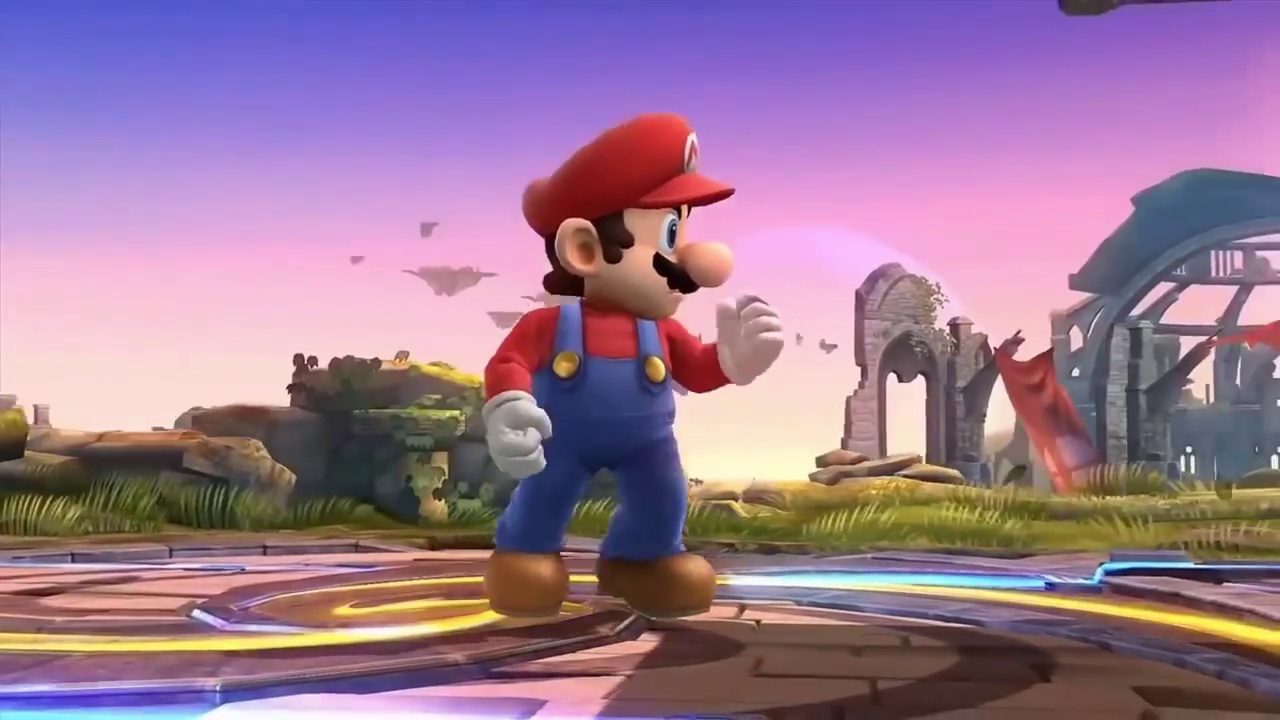Mario: (484, 111, 784, 619)
